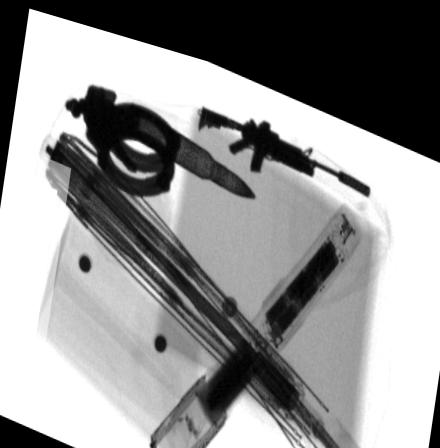Baton: (148, 182, 363, 448)
Bullet: (118, 90, 254, 184)
Gun: (197, 92, 371, 175)
HandCuffs: (61, 78, 180, 191)
